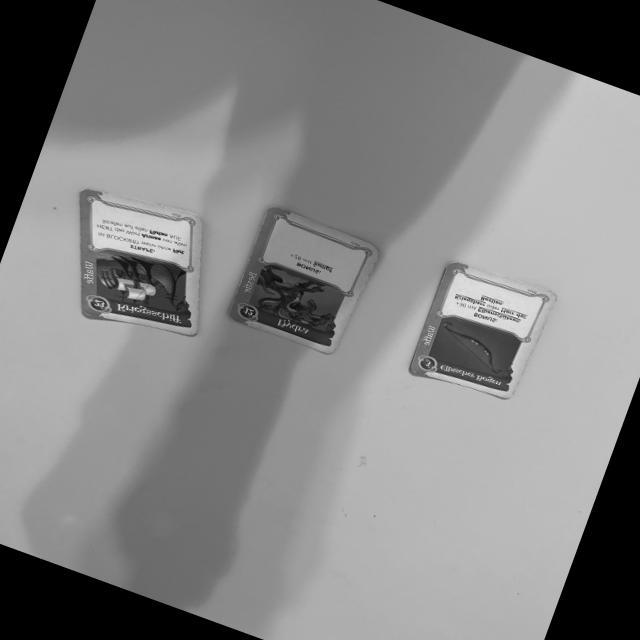Elven Longbow: (408, 261, 561, 401)
Hydra: (224, 201, 380, 360)
Warship: (77, 187, 203, 336)
